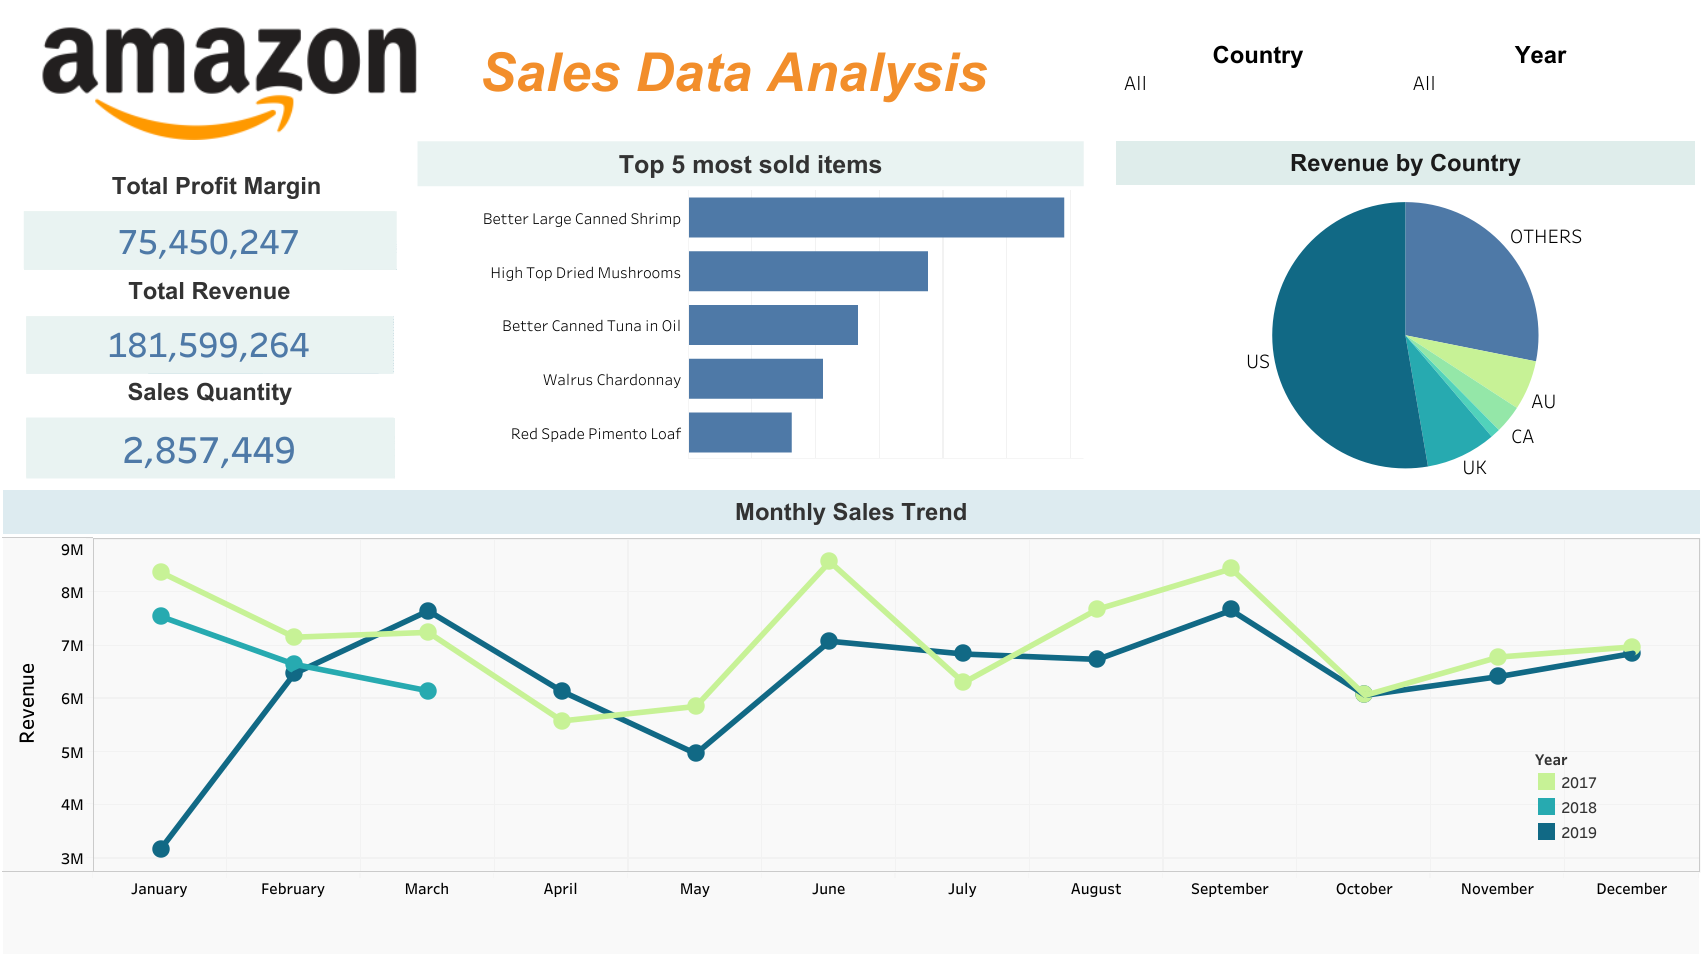

Layout of this report page (visuals, bound fields, positions):
{"tool":"tableau","page":{"name":"Sales_analysis","canvas":[1366,768],"ordinal":0},"visuals":[{"type":"image","param":"Image/pngimg.com - amazon_PNG7.png","box":[34,22,299,111]},{"type":"text","box":[248,25,678,67]},{"type":"filter","title":"Revenue by country","param":"[federated.19gjnl417jnm011cabjo60blfq4e].[none:Country:nk]","box":[897,31,219,86]},{"type":"filter","title":"Revenue by country","param":"[federated.19gjnl417jnm011cabjo60blfq4e].[yr:Invoice Date:ok]","box":[1128,31,210,87]},{"type":"worksheet","title":"Sheet 7","mark":"Automatic","rows":["Item"],"cols":["Sales Quantity"],"box":[334,113,533,295]},{"type":"worksheet","title":"Revenue by country","mark":"Pie","box":[893,113,463,273]},{"type":"worksheet","title":"total_profit_margin","mark":"Automatic","box":[19,131,298,85]},{"type":"worksheet","title":"Total_revenue","mark":"Automatic","box":[21,215,293,83]},{"type":"worksheet","title":"sales_quantity","mark":"Automatic","box":[21,296,294,86]},{"type":"worksheet","title":"yearly_mothwise_sales","mark":"Line","rows":["Sales Amount","Sales Amount"],"cols":["Invoice Date"],"box":[2,392,1358,372]},{"type":"legend","title":"yearly_mothwise_sales","param":"[federated.19gjnl417jnm011cabjo60blfq4e].[yr:Invoice Date:ok]","box":[1227,596,116,98]}]}

Visuals, with their boxes in screenshot pixels (x1, y1, x2, y2), scaled from the page's 1366x768 canvas onto the 1706x959 screenshot:
image: bbox(42, 27, 416, 166)
text: bbox(310, 31, 1156, 115)
"Revenue by country" filter: bbox(1120, 39, 1394, 146)
"Revenue by country" filter: bbox(1409, 39, 1671, 147)
"Sheet 7" worksheet: bbox(417, 141, 1083, 509)
"Revenue by country" worksheet (Pie marks): bbox(1115, 141, 1694, 482)
"total_profit_margin" worksheet: bbox(24, 164, 396, 270)
"Total_revenue" worksheet: bbox(26, 268, 392, 372)
"sales_quantity" worksheet: bbox(26, 370, 393, 477)
"yearly_mothwise_sales" worksheet (Line marks): bbox(2, 489, 1699, 954)
"yearly_mothwise_sales" legend: bbox(1532, 744, 1677, 867)
